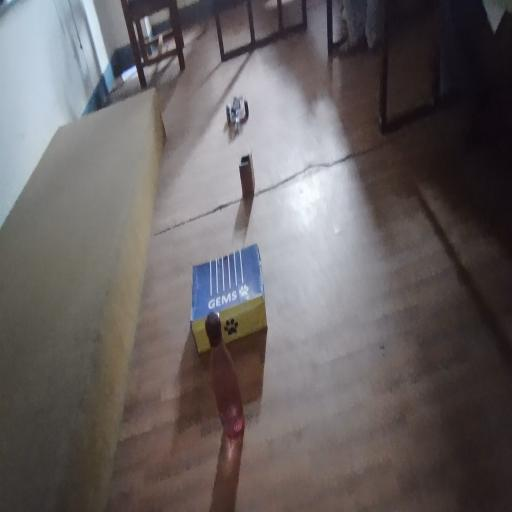Bottle: (201, 305, 251, 459)
car: (226, 79, 253, 135)
